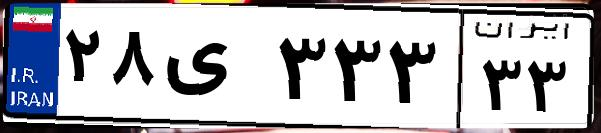2: (57, 26, 110, 100)
3: (270, 28, 330, 110), (385, 28, 445, 110), (330, 28, 385, 110), (475, 38, 525, 113), (525, 38, 570, 115)
8: (110, 28, 158, 98)
ی: (158, 20, 270, 120)
